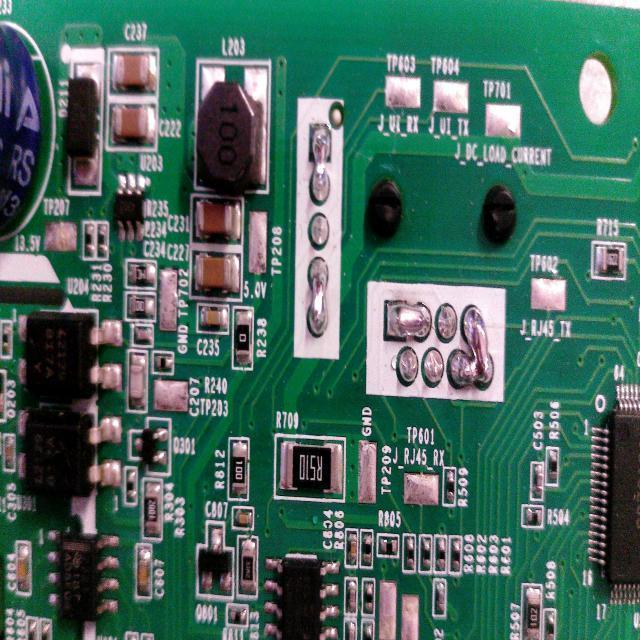Soldering shorted: (450, 298, 496, 391), (383, 297, 433, 344), (306, 252, 330, 339), (309, 124, 332, 203)
